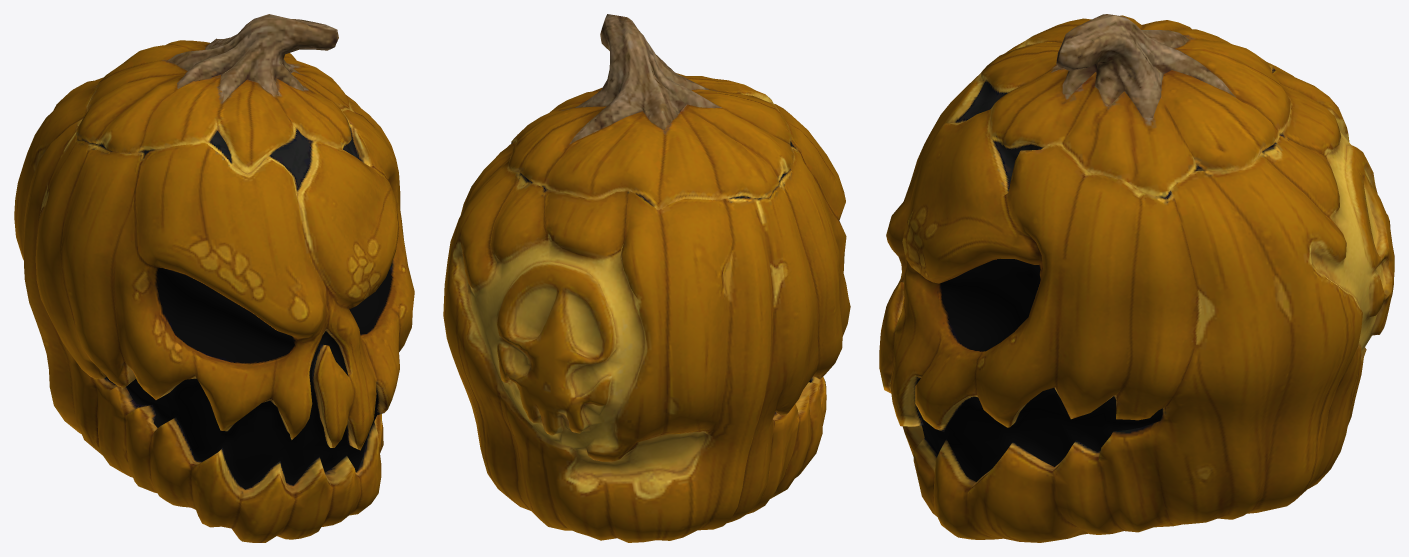
Rendered from SurvivorMale_Head_Mask_SleepyHallow_LOD0.glb.
The picture shows the model from 3 angles, left to right: view 1: azimuth 30°, elevation 25°; view 2: azimuth 150°, elevation 25°; view 3: azimuth 270°, elevation 25°; orthographic projection. The views are drawn at different scales.
Parts seen in each view (by area): view 1: Hoodie; view 2: Hoodie; view 3: Hoodie.
Part boxes in pixels (x1,y1,x2,y2): Hoodie: [14, 14, 414, 542]; Hoodie: [443, 14, 850, 542]; Hoodie: [879, 14, 1394, 542].
Size of the model in its own units: 0.2328 by 0.3126 by 0.2775.
Materials: 1 (1 with a texture image).
